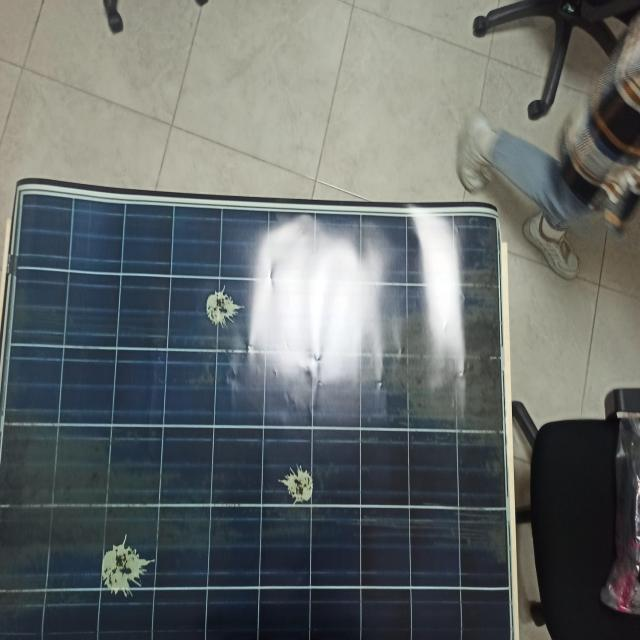faulty: (0, 182, 515, 640)
